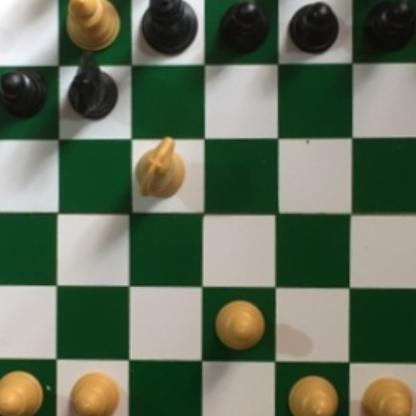black-knight: (64, 50, 122, 122)
black-pawn: (358, 0, 416, 59), (215, 0, 269, 55), (288, 0, 340, 55), (0, 68, 46, 119)
black-queen: (138, 0, 199, 59)
white-bishop: (59, 0, 123, 53)
white-knight: (132, 135, 187, 202)
white-pawn: (211, 296, 268, 351), (67, 369, 125, 416), (285, 373, 342, 416), (358, 375, 415, 416), (0, 367, 47, 416)
